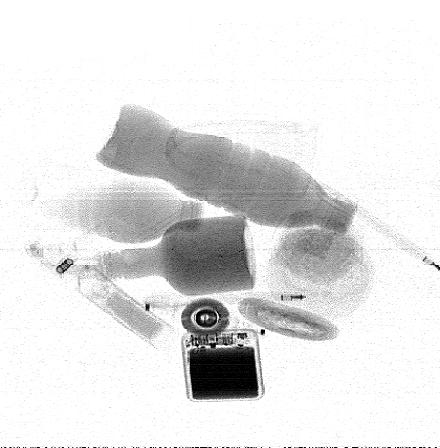Powerbank: (181, 329, 265, 403)
